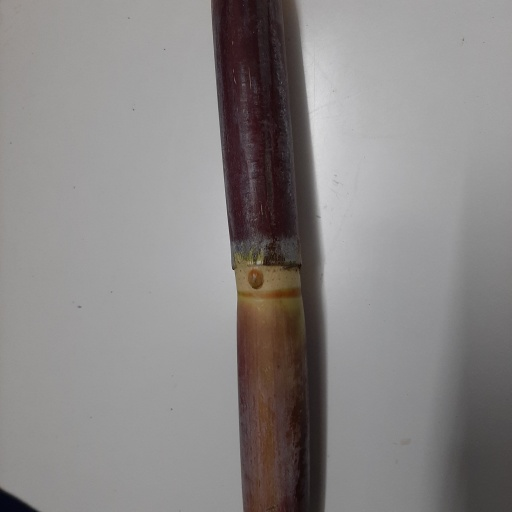Bud: (246, 269, 263, 290)
